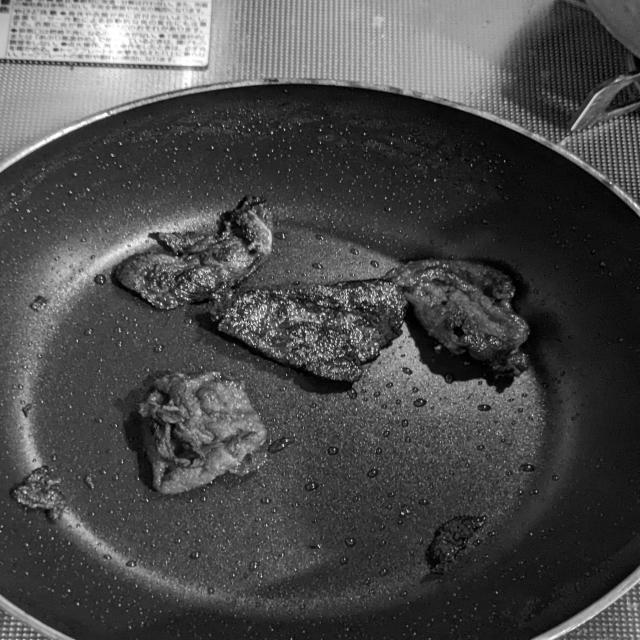overcooked beef,: (207, 271, 409, 395), (104, 188, 276, 308)
overcooked pork: (381, 253, 539, 383), (135, 366, 280, 499)
